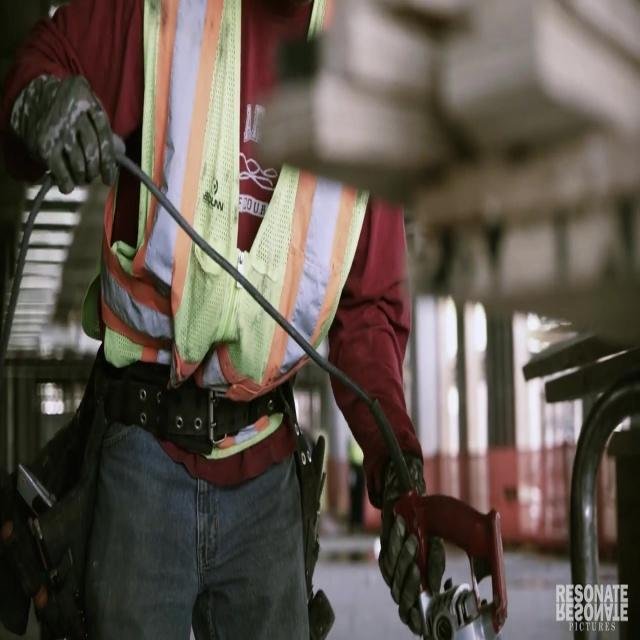vest: (100, 0, 374, 609)
